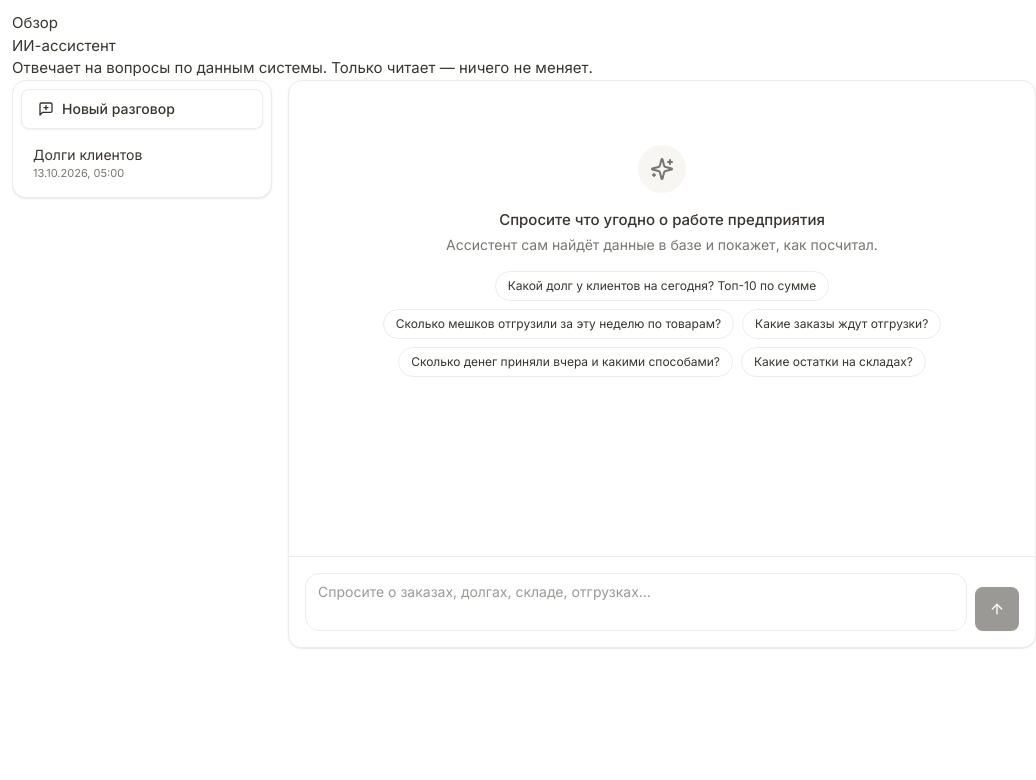
Scenario: ИИ-ассистент › открывает разговор из истории
Click the button "Долги клиентов 13.10.2026, 05:00": point(142, 163) [21,136,263,189]
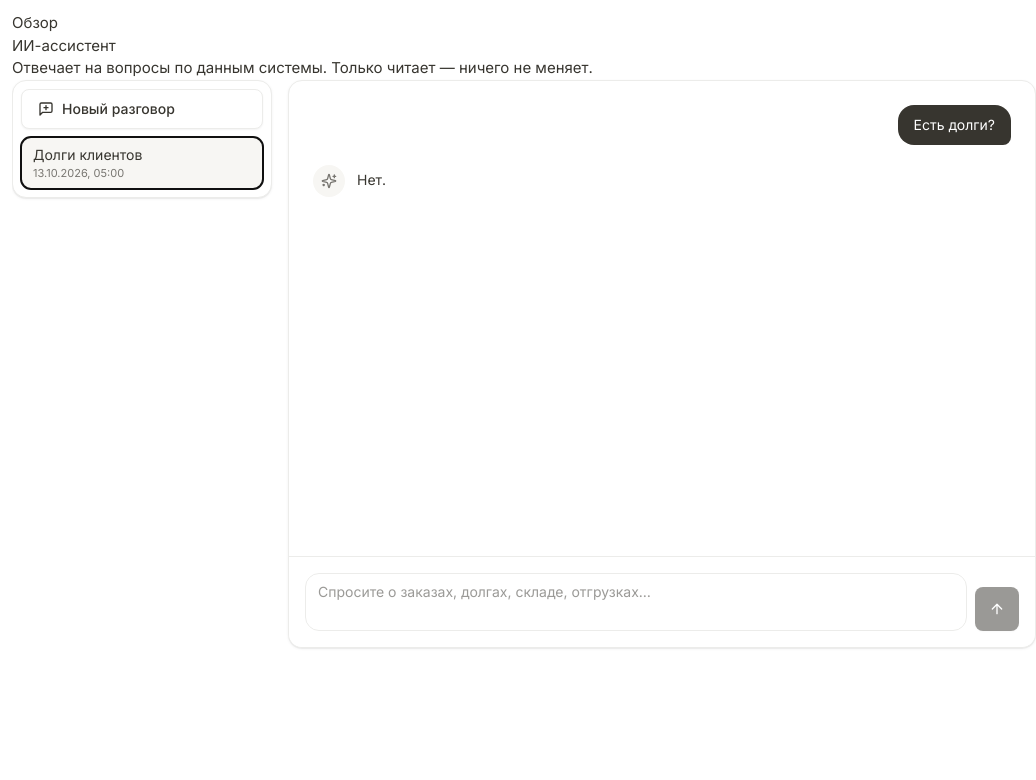
Now the text "Нет." is shown, box [357,170,386,188]
